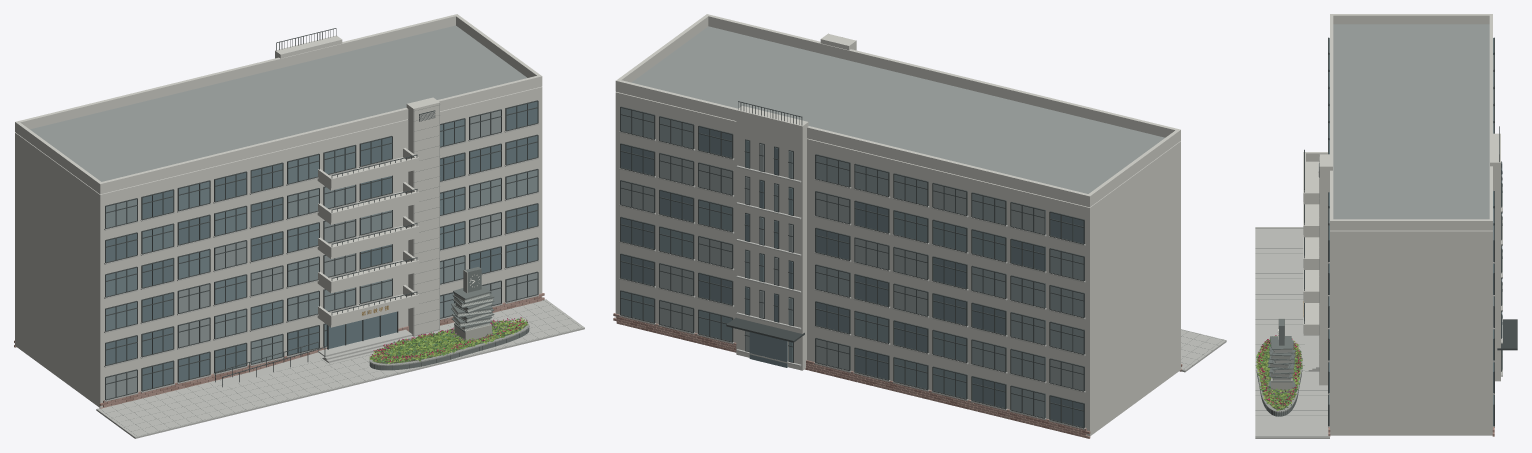
3 views of the same model, side by side, from view 1: azimuth 30°, elevation 25°; view 2: azimuth 150°, elevation 25°; view 3: azimuth 270°, elevation 25° (orthographic). The views are drawn at different scales.
Parts seen in each view (by area): view 1: T4 six storey structure, T4 flat roof, T4 window glass.001, T4 forecourt paving, T4 roof parapet, T4 window transoms, T4 window glass.003, T4 window mullions, T4 window glass.002, T4 window glass, T4 front shaft, T4 balcony front (+20 smaller); view 2: T4 six storey structure, T4 flat roof, T4 window glass.001, T4 rear stair tower, T4 window glass.002, T4 roof parapet, T4 window transoms, T4 window glass, T4 window mullions, T4 window glass.003, T4 projecting sills, T4 end parapet (+12 smaller); view 3: T4 six storey structure, T4 flat roof, T4 forecourt paving, T4 end parapet, T4 front shaft, T4 balcony slab, T4 rear stair tower, T4 roof parapet, T4 balcony returns, T4 overhanging book covers, T4 window transoms, T4 paving joints (+12 smaller).
Part boxes in pixels (x1,y1,x2,y2): T4 six storey structure: (15,86,542,407); T4 flat roof: (30,25,526,181); T4 window glass.001: (106,101,537,390); T4 forecourt paving: (96,299,584,438); T4 roof parapet: (18,15,538,193); T4 window transoms: (105,100,538,400); T4 window glass.003: (106,119,537,345); T4 window mullions: (105,101,538,400); T4 window glass.002: (106,170,537,363); T4 window glass: (106,110,537,399); T4 front shaft: (406,97,439,336); T4 balcony front: (330,157,418,325); T4 six storey structure: (615,92,1180,435); T4 flat roof: (632,26,1164,193); T4 window glass.001: (621,127,1083,427); T4 rear stair tower: (736,106,808,370); T4 window glass.002: (621,108,1083,417); T4 roof parapet: (619,15,1177,206); T4 window transoms: (620,106,1084,428); T4 window glass: (621,154,1083,390); T4 window mullions: (620,107,1084,427); T4 window glass.003: (621,200,1005,398); T4 projecting sills: (619,131,1085,429); T4 end parapet: (615,14,1180,207); T4 six storey structure: (1330,230,1492,435); T4 flat roof: (1333,24,1489,219); T4 forecourt paving: (1255,227,1329,438); T4 end parapet: (1330,14,1492,230); T4 front shaft: (1319,154,1332,385); T4 balcony slab: (1303,161,1319,335); T4 rear stair tower: (1490,133,1500,381); T4 roof parapet: (1330,15,1492,219); T4 balcony returns: (1304,152,1327,333); T4 overhanging book covers: (1267,336,1295,382); T4 window transoms: (1328,37,1494,404); T4 paving joints: (1255,228,1329,436).
Bounding box in the file's own units: 41.5 × 20.97 × 21.86.
